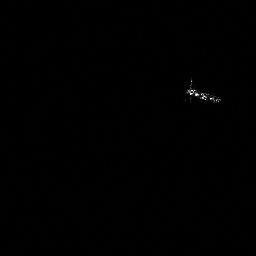ship: (182, 76, 224, 108)
